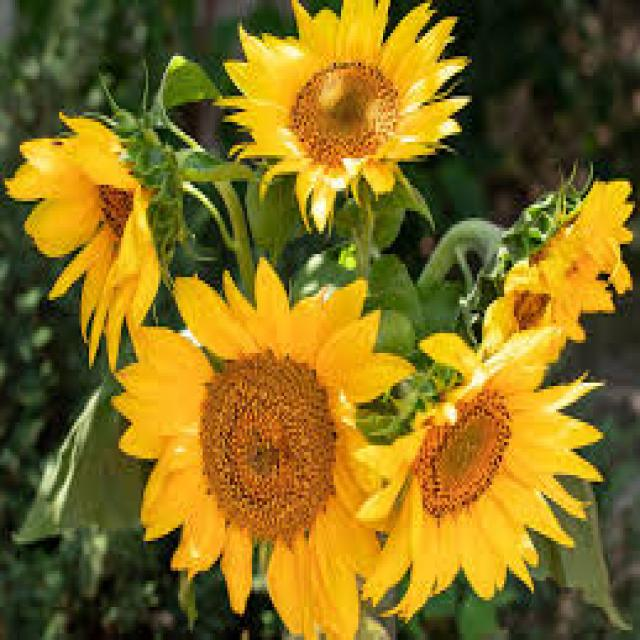sunflower: (102, 269, 396, 632), (347, 308, 597, 622), (212, 0, 484, 231), (7, 106, 188, 360), (487, 176, 635, 384)
